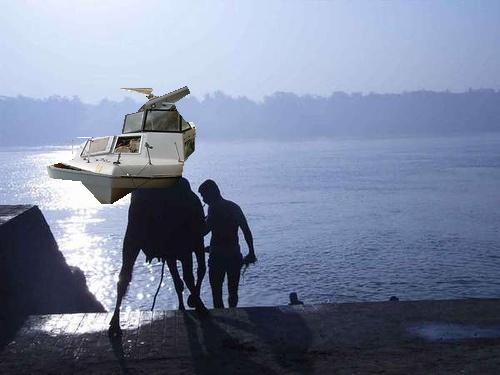tampered: (47, 87, 196, 204)
